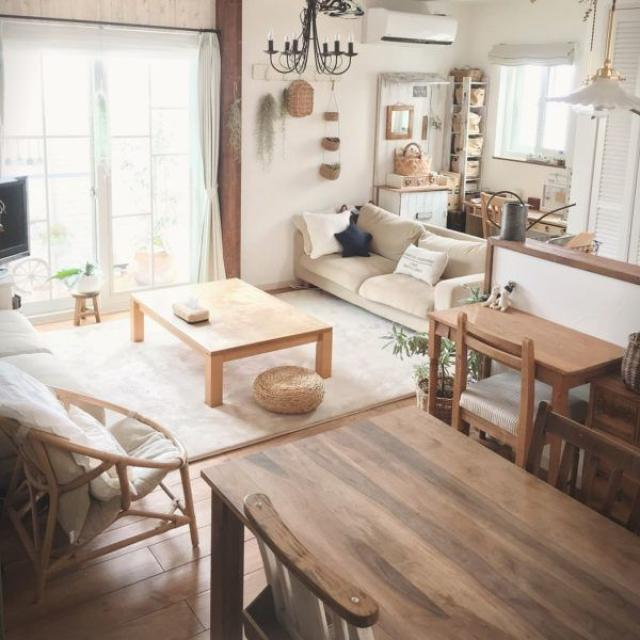natural desk: (188, 411, 640, 640), (126, 276, 331, 405)
natural sofa: (287, 199, 476, 319)
